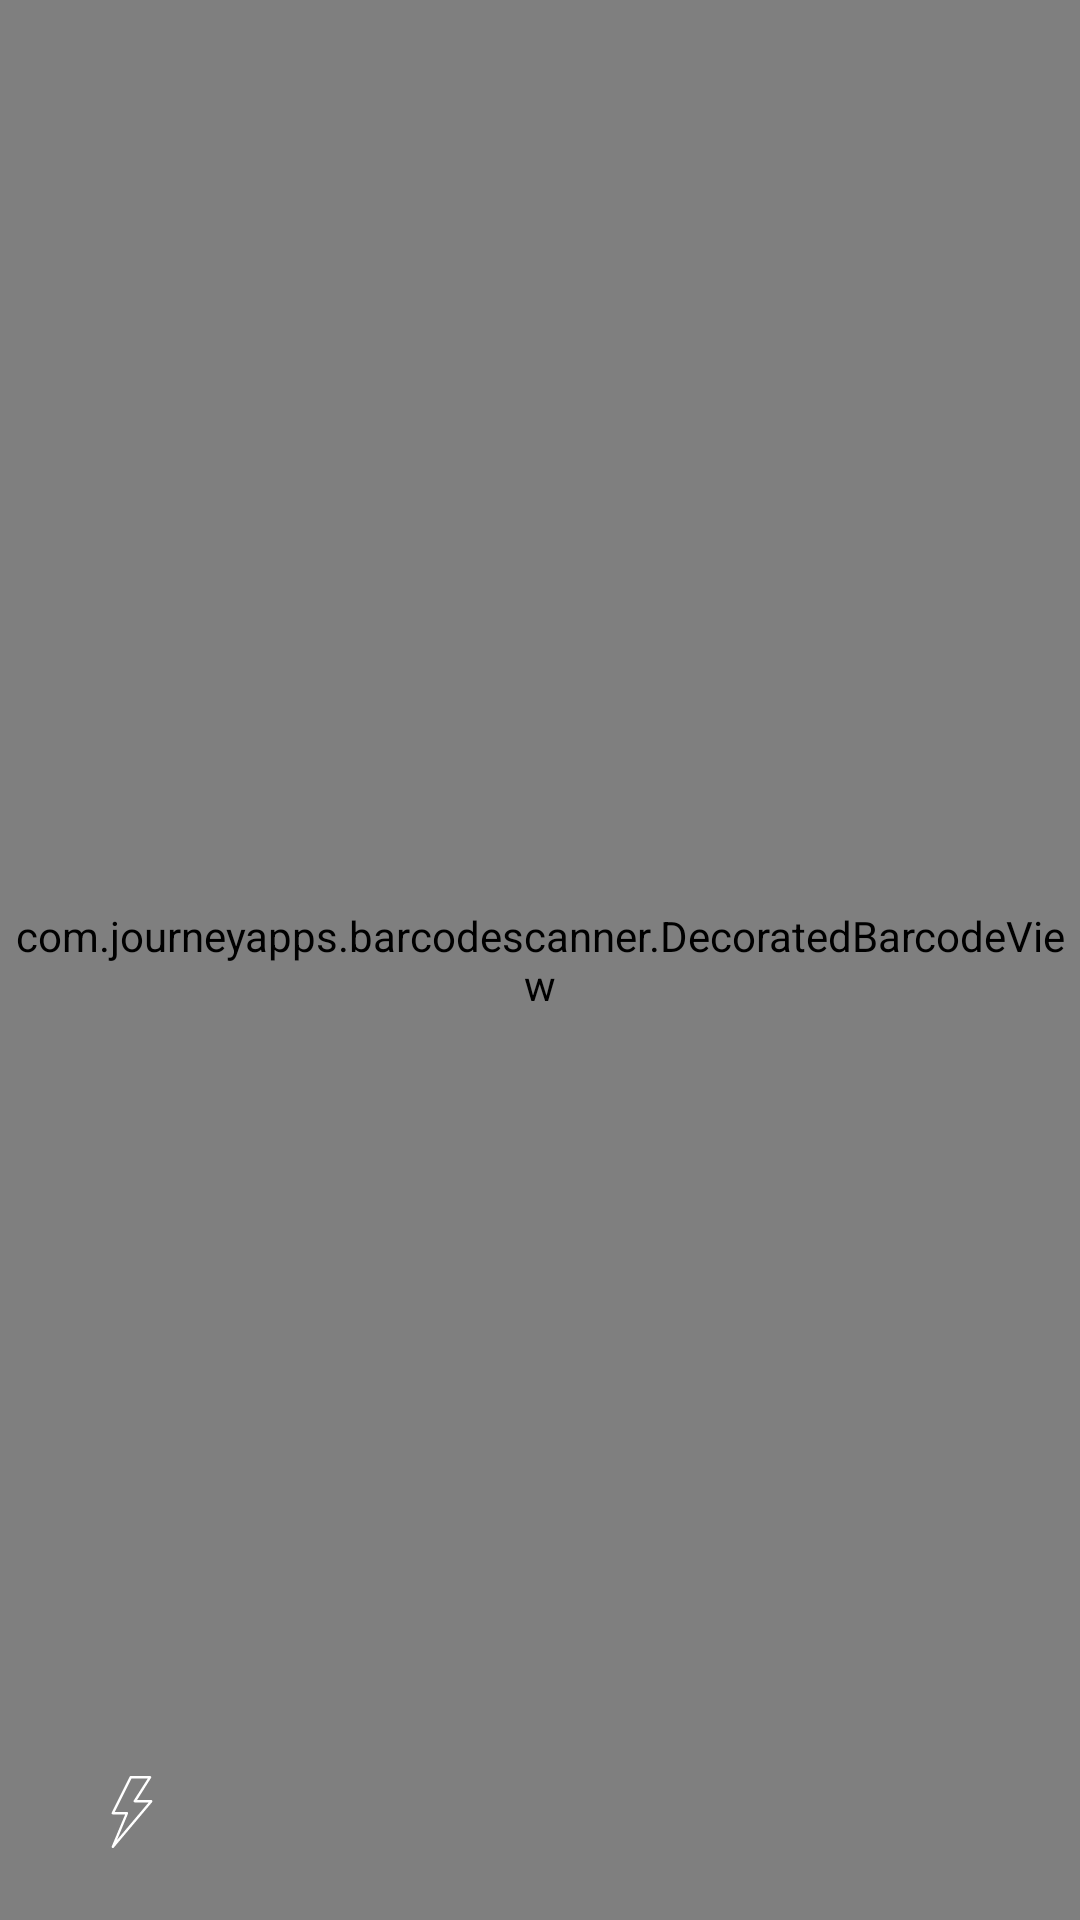

Locate icon controls on the screen. Image size 1080 × 1920, boxes as bbox=(x1, y1, x2, y2).
flash unpress: bbox=(111, 1776, 153, 1848)
